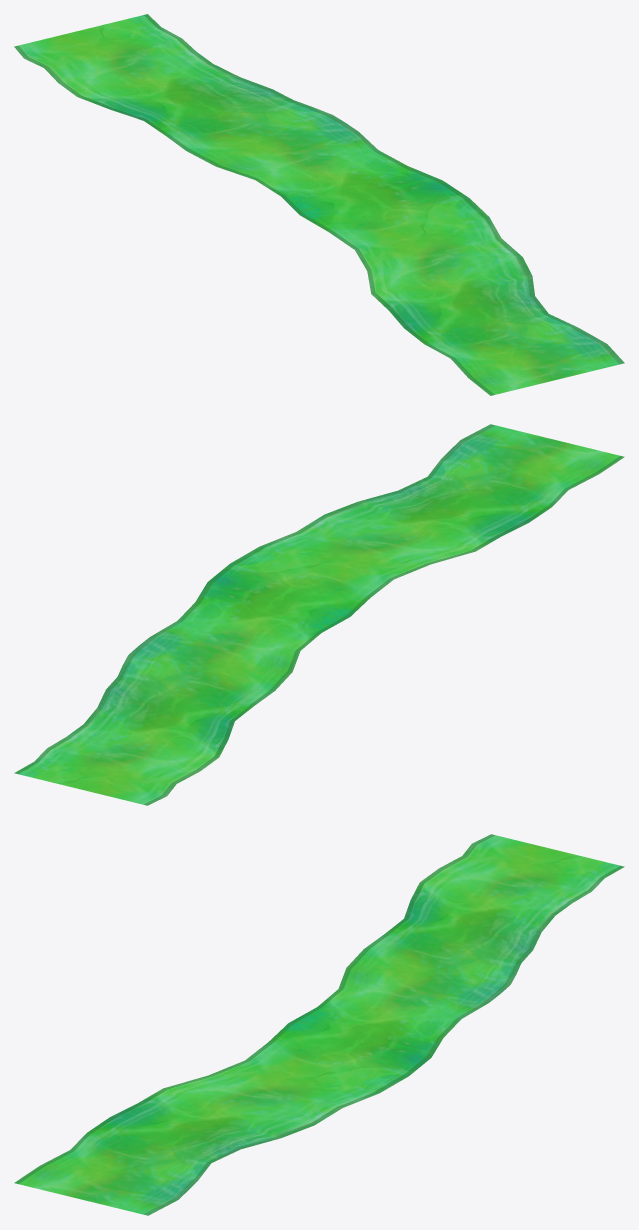
The model's file is Amazon01_Lu02.FBX.
3 renders of one model, top to bottom at view 1: azimuth 30°, elevation 25°; view 2: azimuth 150°, elevation 25°; view 3: azimuth 330°, elevation 25°, orthographic.
Visible parts, largest first — view 1: Amazon01_Lu02; view 2: Amazon01_Lu02; view 3: Amazon01_Lu02.
Part boxes in pixels (left/top/right/bottom): Amazon01_Lu02: left=14, top=14, right=624, bottom=395; Amazon01_Lu02: left=14, top=424, right=624, bottom=805; Amazon01_Lu02: left=14, top=834, right=624, bottom=1215.
Bounding box in the file's own units: 1398 × 0.000488 × 6041.
